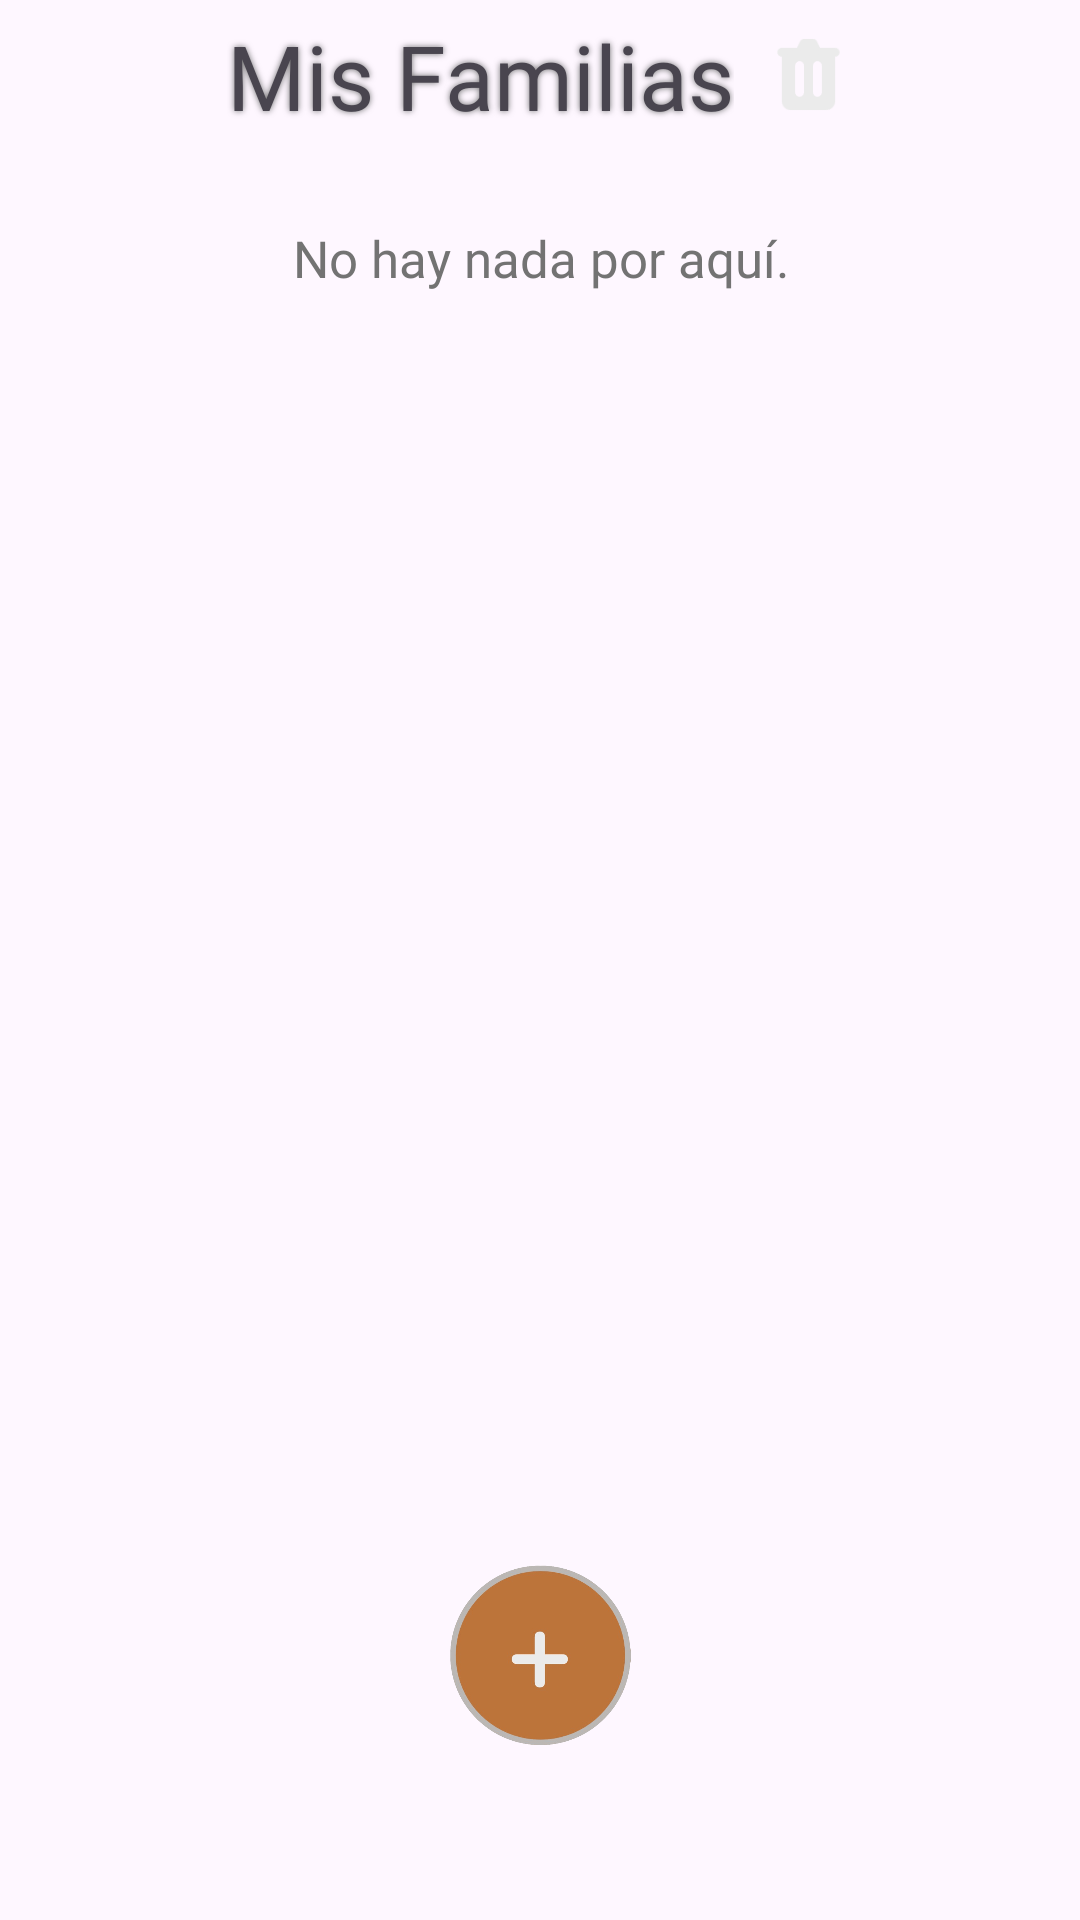

Locate icon controls on the screen. Image size 1080w x 1920h, boxes as (x1, y1, x2, y2).
botonnuevo: (450, 1566, 631, 1745)
